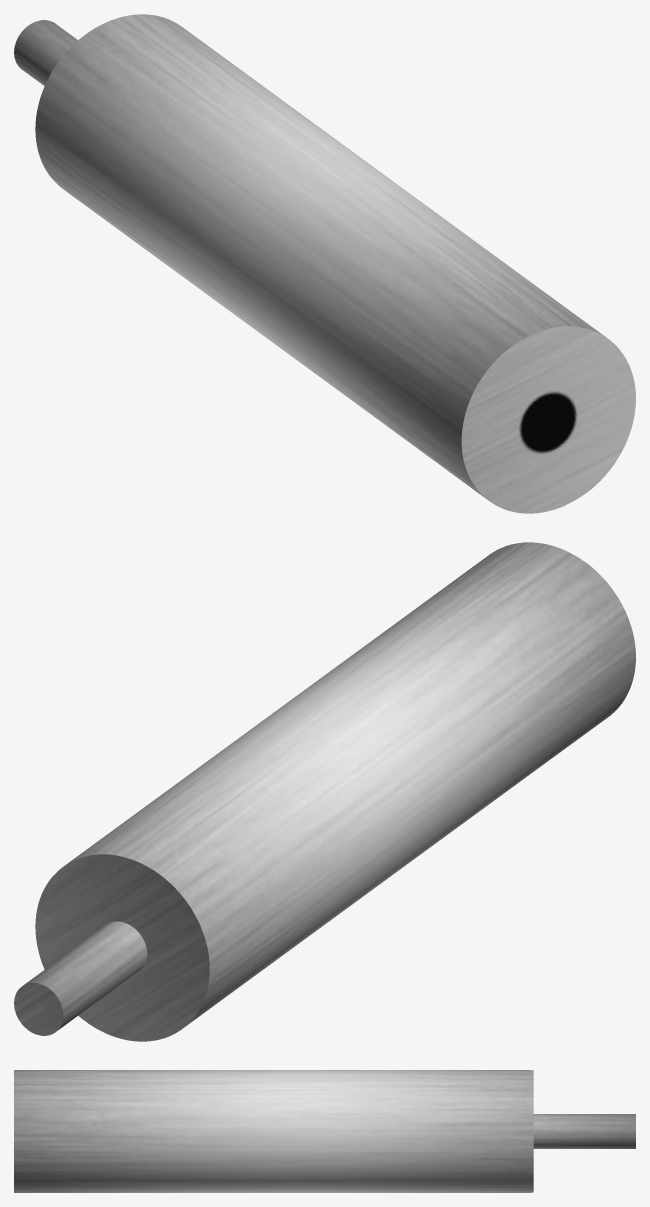
File: pole_middle.dae
The picture shows the model from 3 angles, top to bottom: view 1: azimuth 30°, elevation 25°; view 2: azimuth 150°, elevation 25°; view 3: azimuth 270°, elevation 25°; orthographic projection. The views are drawn at different scales.
Visible parts, largest first — view 1: _f_pole; view 2: _f_pole; view 3: _f_pole.
Part boxes in pixels (<box>): _f_pole: <box>14,14,635,513</box>; _f_pole: <box>14,542,635,1041</box>; _f_pole: <box>14,1070,635,1192</box>.
Bounding box in the file's own units: 12 × 60.8 × 12.
Materials: 1 (1 with a texture image).
